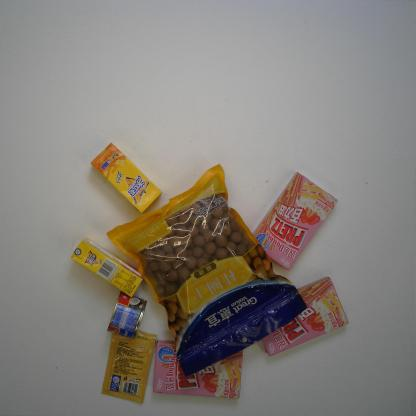Canned Food: (106, 290, 147, 340)
Dessert: (252, 171, 339, 271), (261, 276, 349, 358), (152, 338, 244, 400)
Dried Food: (103, 161, 308, 380)
Drink: (90, 140, 163, 215), (70, 237, 143, 298)
Seasoner: (100, 330, 158, 404)
